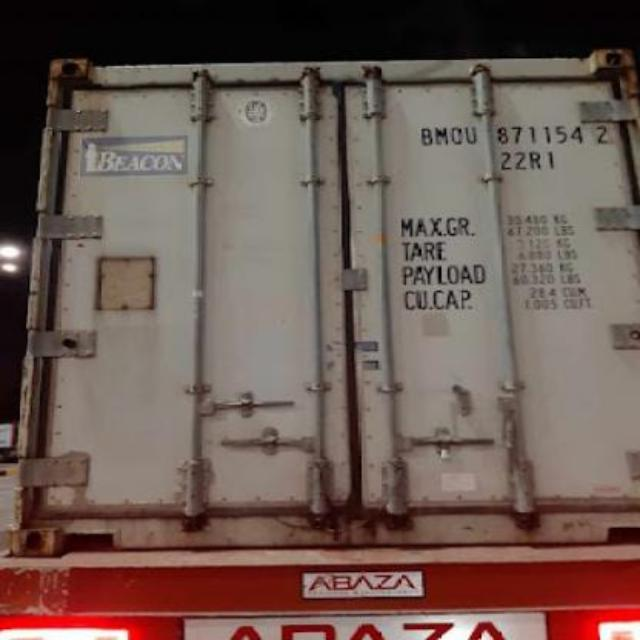1: (542, 122, 554, 146), (528, 122, 536, 144)
2: (594, 122, 612, 146)
4: (572, 122, 586, 148)
5: (556, 122, 570, 144)
7: (510, 122, 526, 144)
8: (494, 120, 510, 146)
B: (420, 124, 432, 148)
M: (430, 125, 448, 146)
O: (448, 125, 462, 148)
U: (462, 122, 480, 146)
